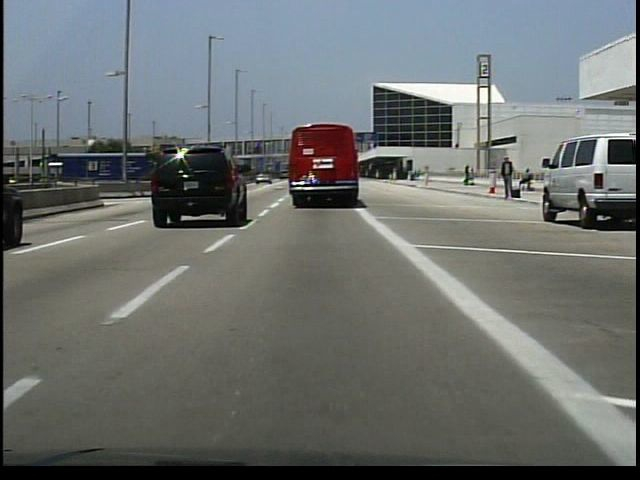person: (496, 155, 520, 207), (516, 167, 534, 196)
